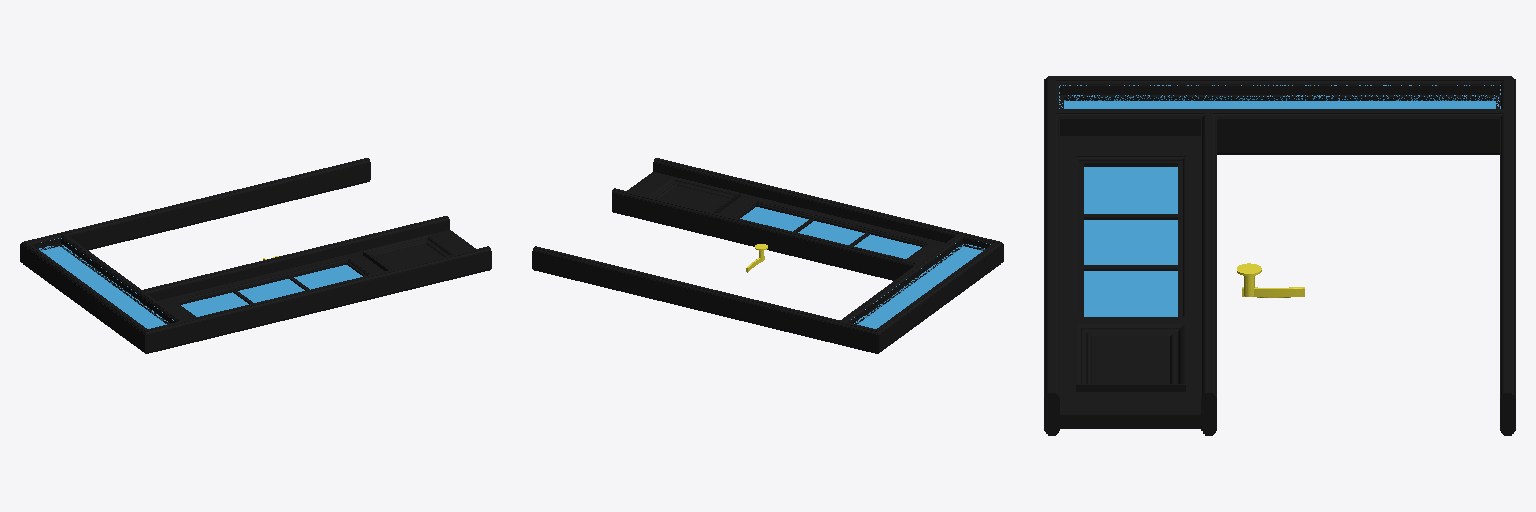
The robot description file, URDF, robot "right-push-door":
<robot name="right-push-door">
	<link name="base" />
	<link name="link_0">
		<visual name="out-frame">
			<origin xyz="0 0 0" />
			<geometry>
				<mesh filename="texture_dae/frame.dae" scale="0.7505285423178615 0.7505285423178615 0.7505285423178615" />
			</geometry>
		</visual>
		<collision>
			<origin xyz="0 0 0" />
			<geometry>
				<mesh filename="texture_dae/frame.dae" scale="0.7505285423178615 0.7505285423178615 0.7505285423178615" />
			</geometry>
		</collision>
	</link>
	<joint name="joint_0" type="fixed">
		<origin rpy="1.570796326794897 0 -1.570796326794897" xyz="0 0 0" />
		<child link="link_0" />
		<parent link="base" />
	</joint>
	<link name="link_1">
		<visual name="surf-board">
			<origin xyz="0.3426210038739217 -0.8027465129428648 0" />
			<geometry>
				<mesh filename="texture_dae/board.dae" scale="0.7505285423178615 0.7505285423178615 0.7505285423178615" />
			</geometry>
		</visual>
		<collision>
			<origin xyz="0.3426210038739217 -0.8027465129428648 0" />
			<geometry>
				<mesh filename="texture_dae/board.dae" scale="0.7505285423178615 0.7505285423178615 0.7505285423178615" />
			</geometry>
		</collision>
	</link>
	<joint name="joint_1" type="revolute">
		<origin xyz="-0.3426210038739217 0.8027465129428648 0" />
		<axis xyz="0 -1 0" />
		<child link="link_1" />
		<parent link="link_0" />
		<limit lower="-1.5079644737231006" upper="-0.0" />
	</joint>
	<link name="link_2">
		<visual name="handle">
			<origin xyz="0 0 0" />
			<geometry>
				<mesh filename="texture_dae/9960030.dae" scale="1.1945034899157454 1.1945034899157454 1.1945034899157454" />
			</geometry>
		</visual>
		<collision>
			<origin xyz="0 0 0" />
			<geometry>
				<mesh filename="texture_dae/9960030.dae" scale="1.1945034899157454 1.1945034899157454 1.1945034899157454" />
			</geometry>
		</collision>
	</link>
	<joint name="joint_2" type="revolute">
		<origin xyz="0.6062832908015859 -0.8013276785370338 0.0385390127151129" />
		<child link="link_2" />
		<parent link="link_1" />
		<axis xyz="0 0 1" />
		<limit lower="0" upper="0" />
	</joint>
</robot>

--- What the picture shows (computed from the rendered views, not written in the file) ---
3 views of the same robot in one strip: view 1: azimuth 30°, elevation 25°; view 2: azimuth 150°, elevation 25°; view 3: azimuth 270°, elevation 25° (orthographic).
Model right-push-door with 4 links and 3 joints (2 revolute, 1 fixed), rooted at base, posed every joint at zero.
Links seen in each view (by area): view 1: link_0; view 2: link_0; view 3: link_0, link_2.
Link boxes in pixels (x1=…): link_0: x1=20, y1=158, x2=491, y2=353; link_0: x1=532, y1=158, x2=1003, y2=353; link_0: x1=1044, y1=76, x2=1515, y2=435; link_2: x1=1237, y1=263, x2=1304, y2=297.
Bounding box of the posed robot: 1.83 × 1.14 × 0.1325 m (x, y, z).
2 mesh visuals loaded from 3 distinct referenced files (2 Collada DAE); not drawn: 1 (reference not matched to a file when rendering).
